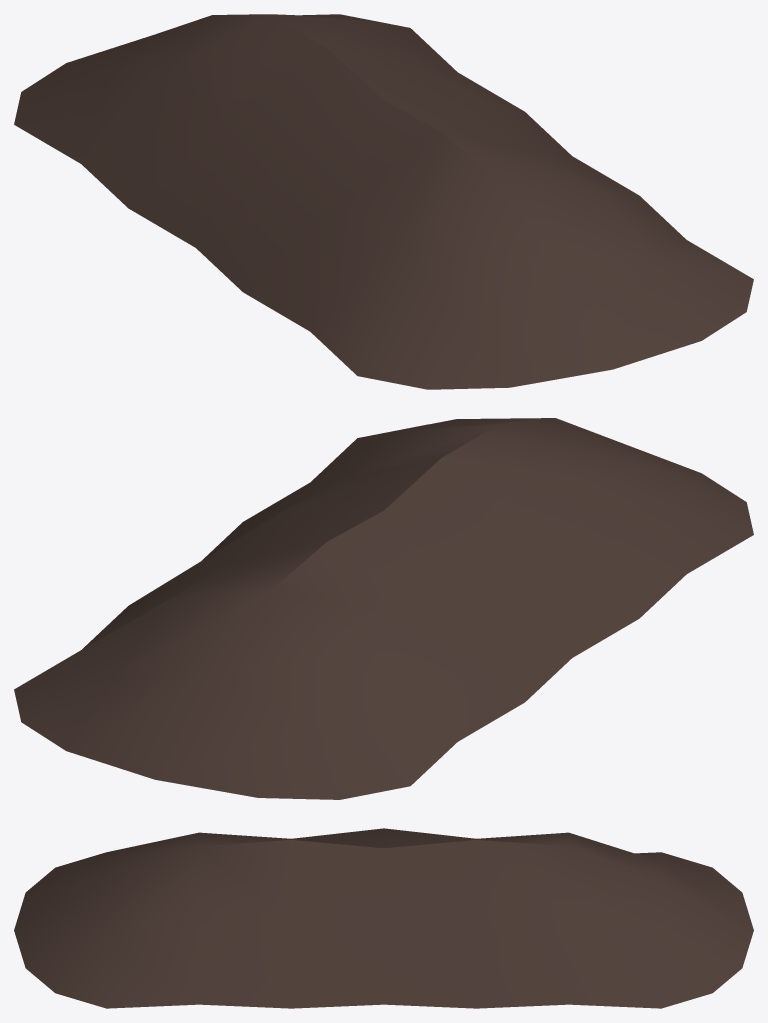
The model's file is grave_001.fbx.
3 views of the same model, one above another, from view 1: azimuth 30°, elevation 25°; view 2: azimuth 150°, elevation 25°; view 3: azimuth 270°, elevation 25° (orthographic). The views are drawn at different scales.
Parts seen in each view (by area): view 1: grave.001; view 2: grave.001; view 3: grave.001.
Part boxes in pixels (bbox=[...]): grave.001: bbox=[14, 14, 753, 389]; grave.001: bbox=[14, 418, 753, 799]; grave.001: bbox=[14, 828, 753, 1008].
Size of the model in its own units: 100 by 27.02 by 200.
